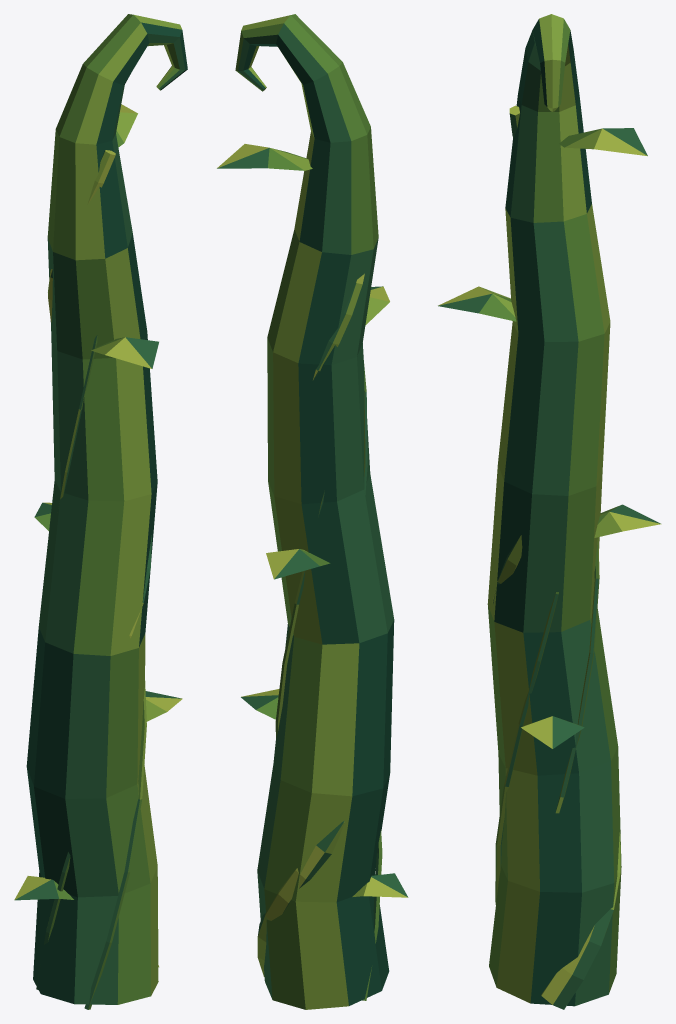
Rendered from grove_beanstalk.glb.
The picture shows the model from 3 angles, left to right: view 1: azimuth 30°, elevation 25°; view 2: azimuth 150°, elevation 25°; view 3: azimuth 270°, elevation 25°; orthographic projection. The views are drawn at different scales.
Parts seen in each view (by area): view 1: grove_beanstalk; view 2: grove_beanstalk; view 3: grove_beanstalk.
Part boxes in pixels (x1,y1,x2,y2): grove_beanstalk: [14, 14, 187, 1009]; grove_beanstalk: [217, 14, 408, 1009]; grove_beanstalk: [438, 14, 661, 1009].
Size of the model in its own units: 5.07 by 27.17 by 5.6.
